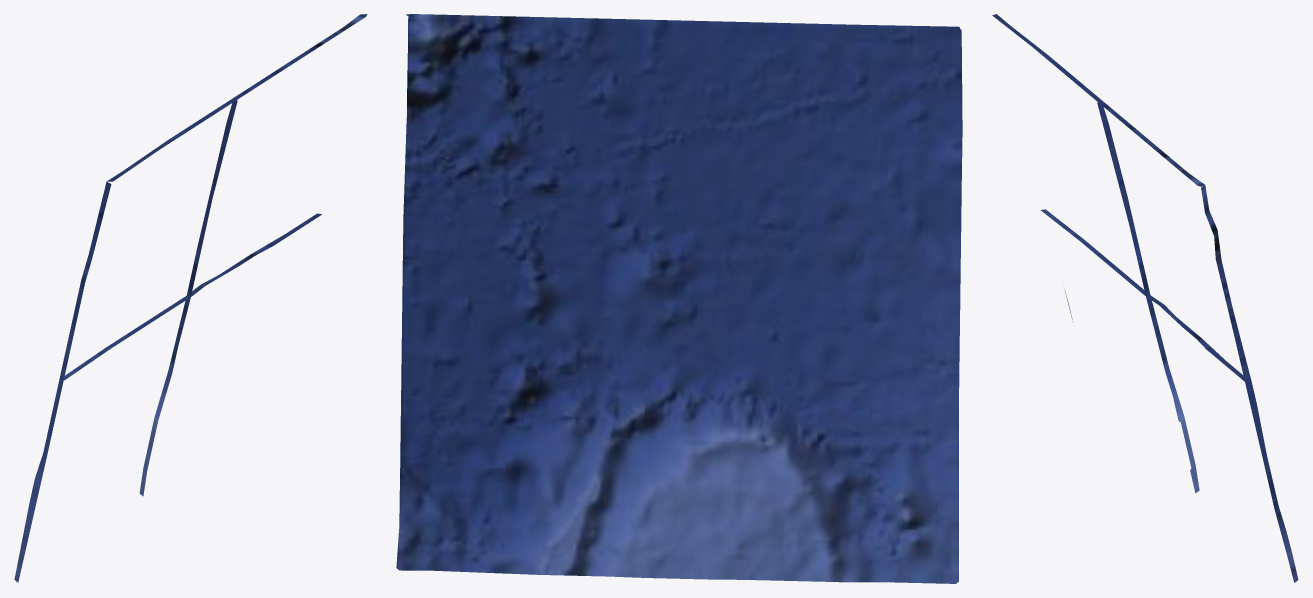
The picture shows the model from 3 angles, left to right: view 1: azimuth 30°, elevation 25°; view 2: azimuth 150°, elevation 25°; view 3: azimuth 270°, elevation 25°; orthographic projection. The views are drawn at different scales.
Size of the model in its own units: 308532 by 307379 by 205082.
1 material, 1 textured.
